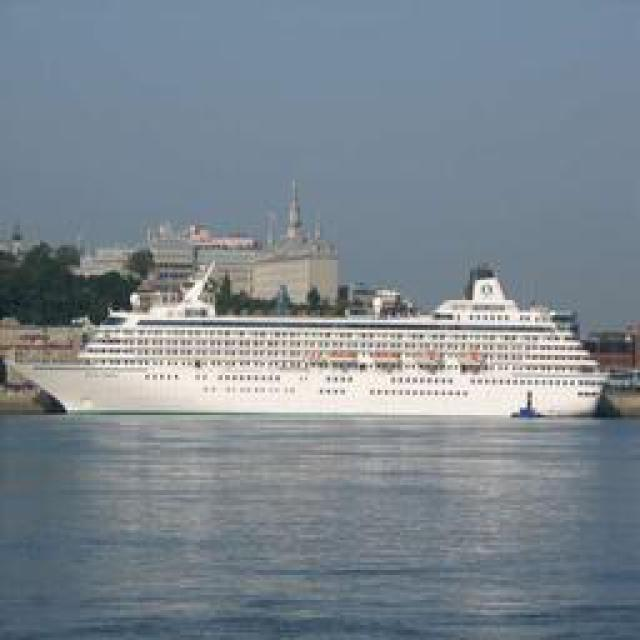Ship: (1, 259, 619, 422)
